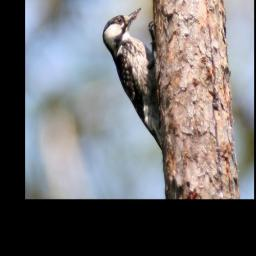Woodpecker: (102, 6, 163, 159)
